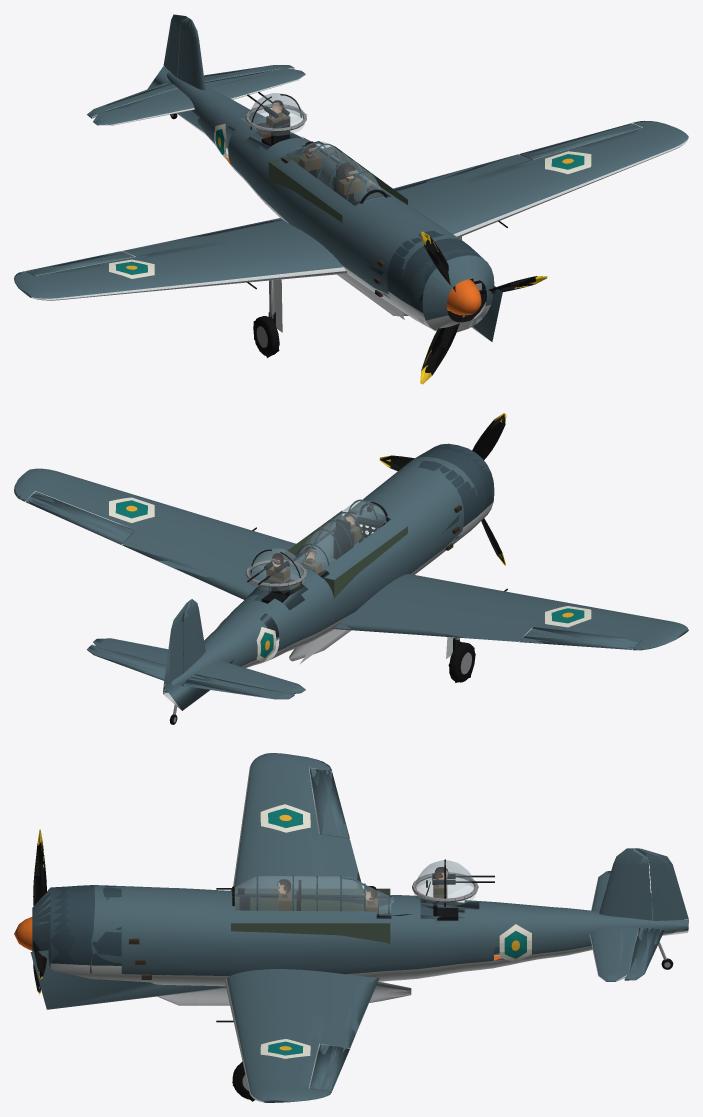
File: Seawarden.glb
3 views of the same model, one above another, from view 1: azimuth 30°, elevation 25°; view 2: azimuth 150°, elevation 25°; view 3: azimuth 270°, elevation 25° (orthographic). The views are drawn at different scales.
Parts seen in each view (by area): view 1: L0_Fuselage, L1_Fuselage, L2_WingR, L2_WingL, L1_WingL, L1_WingR, L0_WingR, L1_Tail, L2_Fuselage, L2_Tail, L0_Interior, L0_Glass (+13 smaller); view 2: L0_Fuselage, L1_Fuselage, L2_WingR, L2_WingL, L1_WingL, L1_WingR, L0_Interior, L0_WingR, L0_Glass, L2_Fuselage, L1_Tail, L2_Tail (+14 smaller); view 3: L0_Fuselage, L1_Fuselage, L2_WingL, L2_WingR, L2_Fuselage, L0_Interior, L0_Glass, L1_WingL, L1_WingR, L0_Tail, L0_WingR, L1_Tail (+13 smaller).
Boxes of the visible parts, x1,y1,x2,y2 form: L0_Fuselage: (167,72,494,332); L1_Fuselage: (166,72,492,331); L2_WingR: (14,218,347,300); L2_WingL: (393,121,688,236); L1_WingL: (399,121,687,237); L1_WingR: (15,218,346,300); L0_WingR: (15,219,347,300); L1_Tail: (93,19,305,125); L2_Fuselage: (147,66,502,341); L2_Tail: (93,18,305,125); L0_Interior: (261,121,407,222); L0_Glass: (288,142,383,204); L0_Fuselage: (163,443,494,692); L1_Fuselage: (164,445,493,692); L2_WingR: (333,574,688,650); L2_WingL: (14,468,295,599); L1_WingL: (15,469,276,592); L1_WingR: (334,585,688,650); L0_Interior: (261,505,407,617); L0_WingR: (339,586,684,650); L0_Glass: (297,501,385,572); L2_Fuselage: (163,511,390,710); L1_Tail: (93,599,305,693); L2_Tail: (94,599,305,693); L0_Fuselage: (32,875,688,1005); L1_Fuselage: (32,876,687,1005); L2_WingL: (216,969,379,1102); L2_WingR: (221,753,362,889); L2_Fuselage: (30,900,688,1009); L0_Interior: (231,880,458,963); L0_Glass: (235,876,393,913); L1_WingL: (217,970,376,1101); L1_WingR: (217,753,357,888); L0_Tail: (589,848,652,981); L0_WingR: (216,753,357,889); L1_Tail: (589,848,652,981).
Size of the model in its own units: 15.72 by 4.22 by 12.91.
